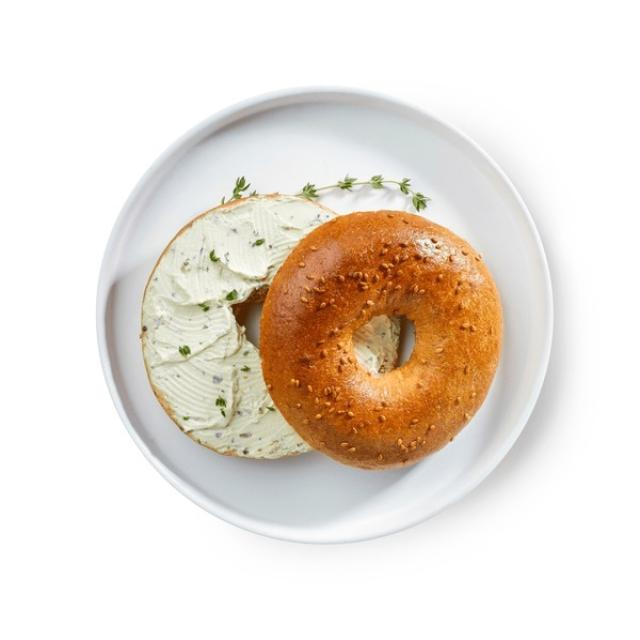Bagel: (260, 212, 502, 470)
